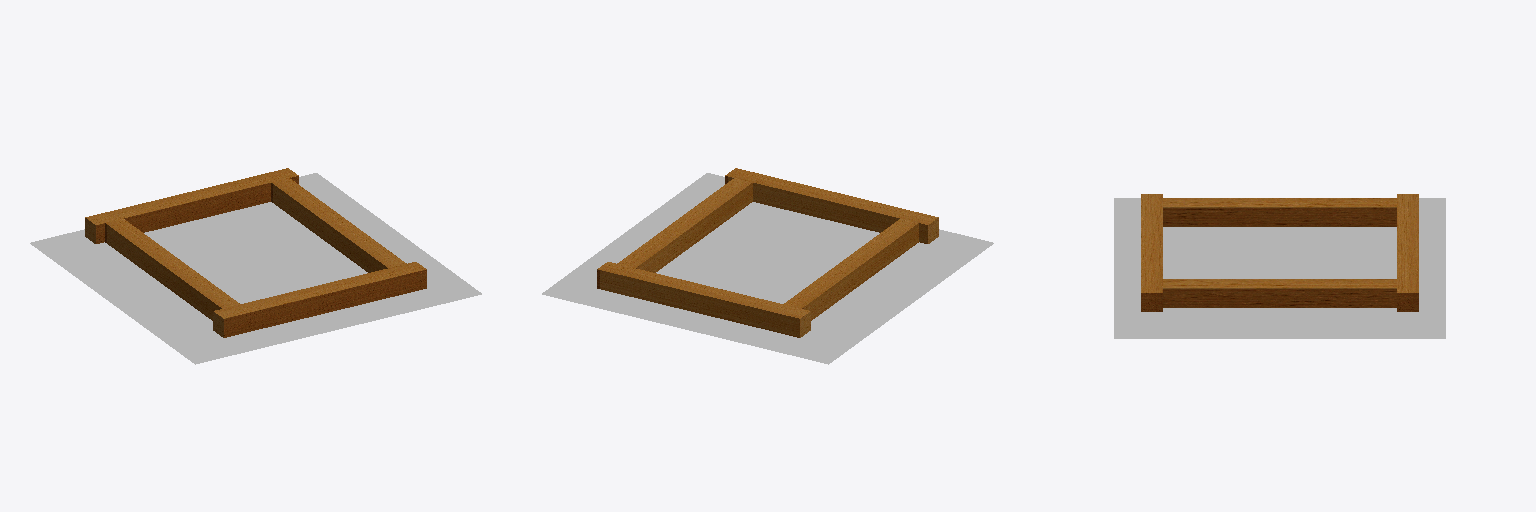
3 renders of one model, left to right at view 1: azimuth 30°, elevation 25°; view 2: azimuth 150°, elevation 25°; view 3: azimuth 270°, elevation 25°, orthographic.
Parts seen in each view (by area): view 1: Plane, Cube.003_Cube.004, Cube.002_Cube.003, Cube_Cube.001, Cube.001_Cube.002; view 2: Plane, Cube.002_Cube.003, Cube.003_Cube.004, Cube_Cube.001, Cube.001_Cube.002; view 3: Plane, Cube_Cube.001, Cube.001_Cube.002, Cube.002_Cube.003, Cube.003_Cube.004.
Boxes of the visible parts, x1,y1,x2,y2 form: Plane: [30, 173, 481, 364]; Cube.003_Cube.004: [213, 262, 426, 337]; Cube.002_Cube.003: [85, 168, 298, 243]; Cube_Cube.001: [105, 219, 239, 320]; Cube.001_Cube.002: [271, 178, 406, 272]; Plane: [542, 173, 993, 364]; Cube.002_Cube.003: [597, 262, 810, 337]; Cube.003_Cube.004: [725, 168, 938, 243]; Cube_Cube.001: [784, 219, 918, 320]; Cube.001_Cube.002: [617, 178, 752, 272]; Plane: [1114, 198, 1445, 338]; Cube_Cube.001: [1163, 198, 1396, 226]; Cube.001_Cube.002: [1163, 279, 1396, 307]; Cube.002_Cube.003: [1397, 194, 1418, 311]; Cube.003_Cube.004: [1141, 194, 1162, 311].
Size of the model in its own units: 31.2 by 2.61 by 31.2.
Materials: 2 (1 with a texture image).